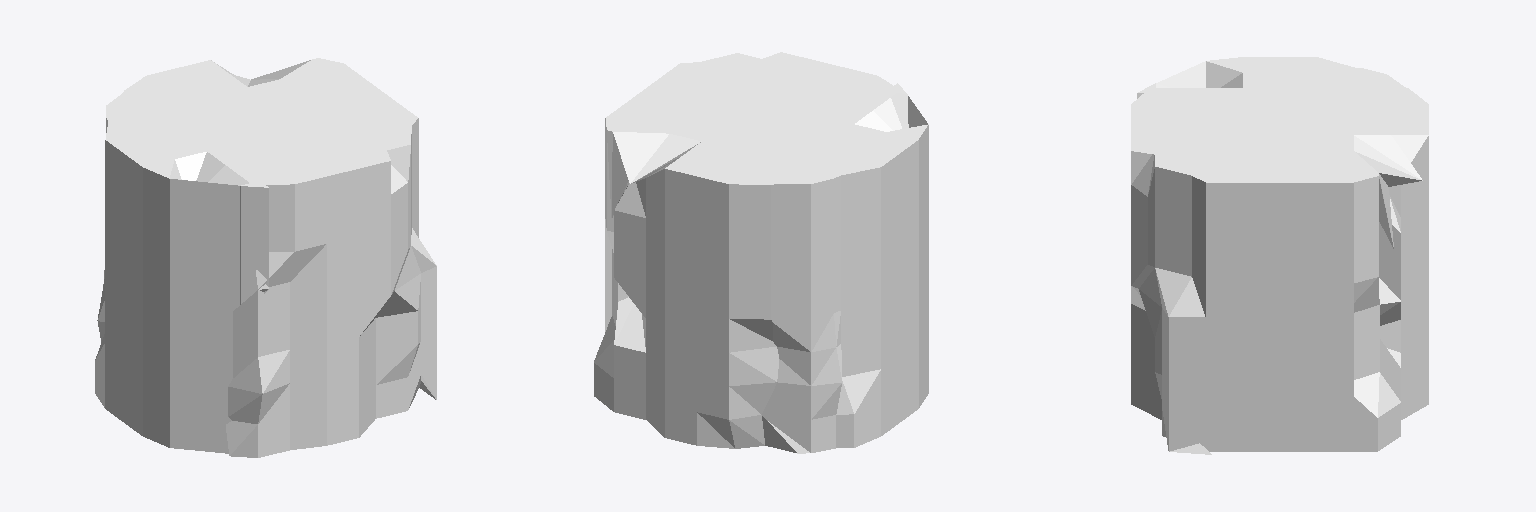
Rendered from Water Volume (1).obj.
The picture shows the model from 3 angles: view 1: azimuth 30°, elevation 25°; view 2: azimuth 150°, elevation 25°; view 3: azimuth 270°, elevation 25°; orthographic projection.
Visible parts, largest first — view 1: Water Volume (1); view 2: Water Volume (1); view 3: Water Volume (1).
Part boxes in pixels (x1,y1,x2,y2): Water Volume (1): (95,58,436,457); Water Volume (1): (594,52,928,453); Water Volume (1): (1131,57,1428,454).
Size of the model in its own units: 1.03 by 1 by 1.